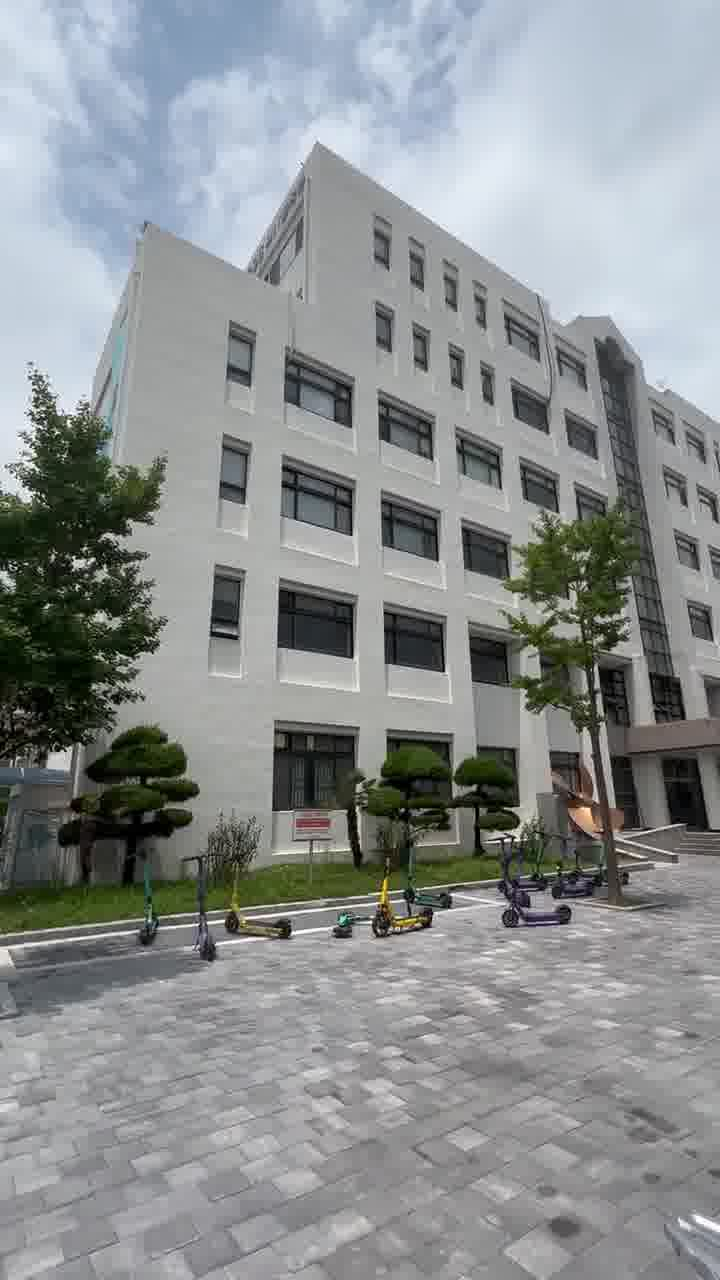low: (102, 162, 564, 756)
